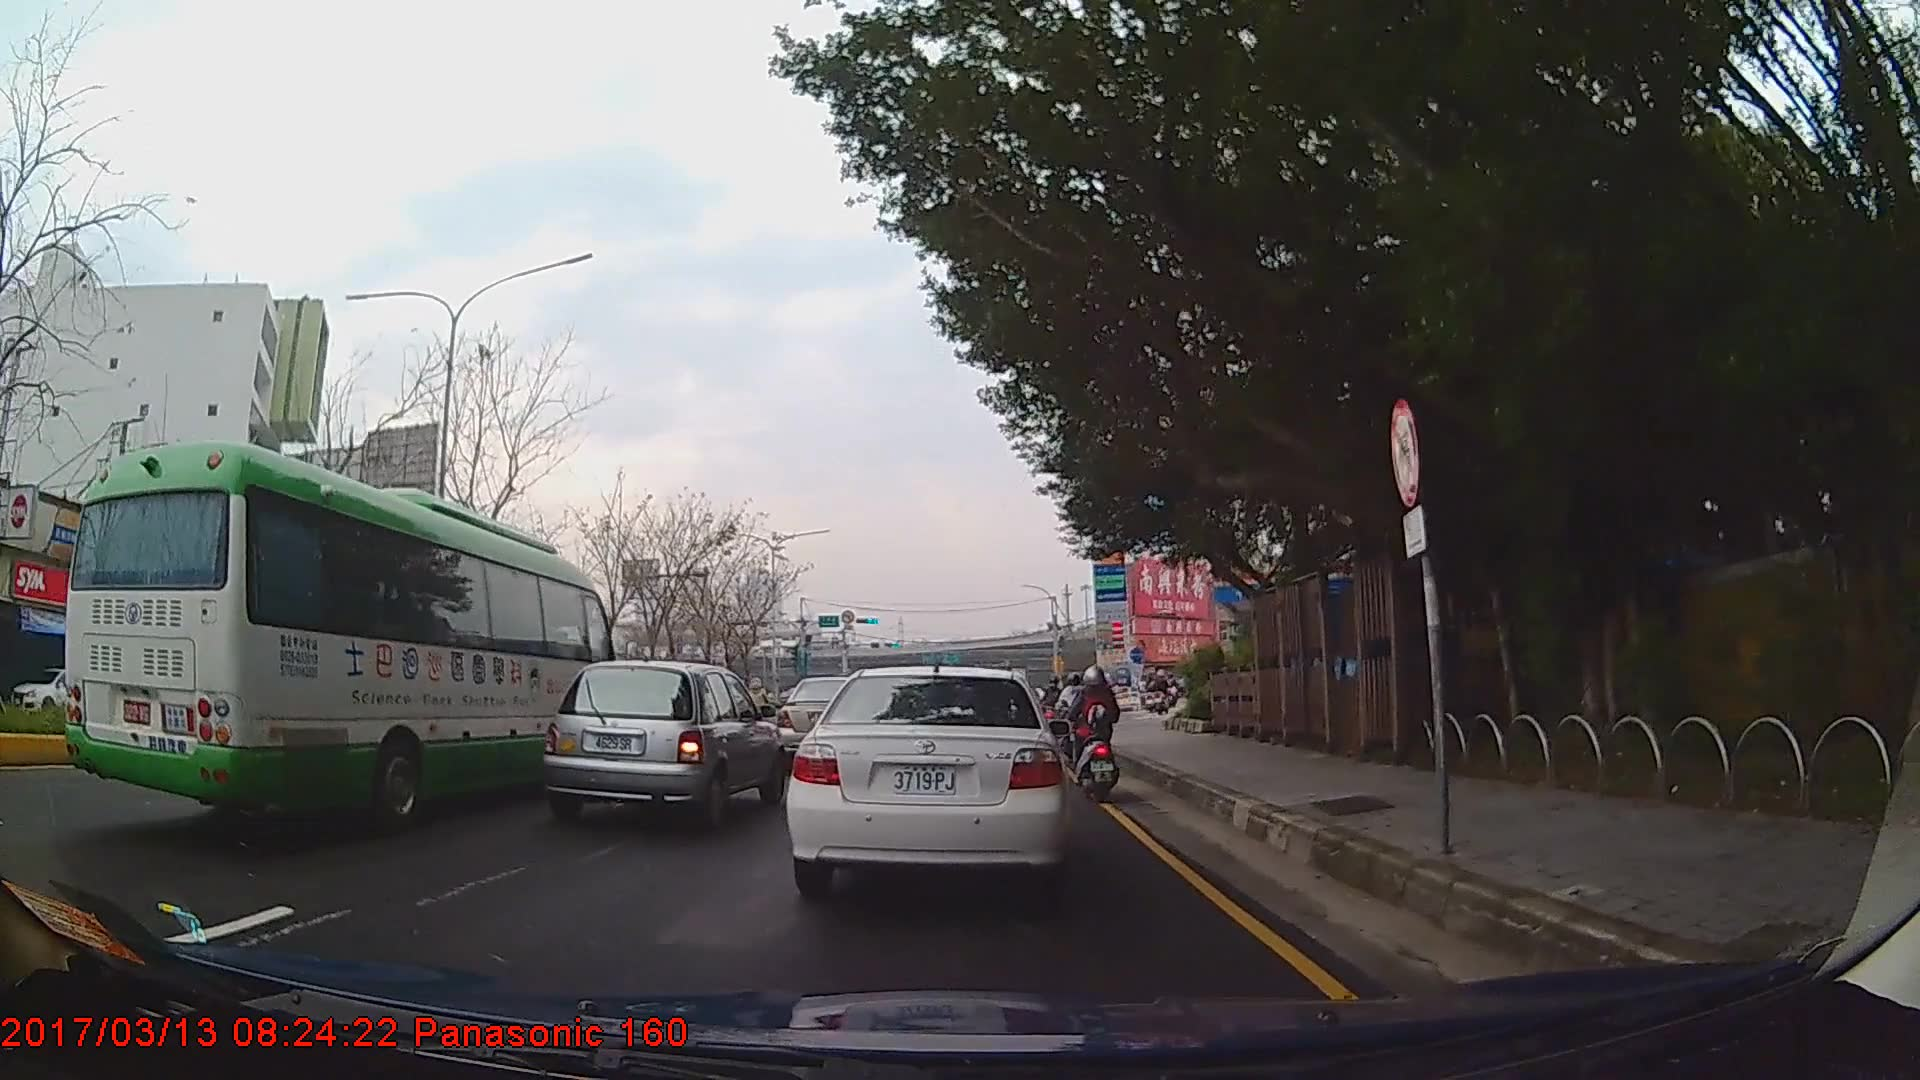rider: (1071, 664, 1120, 805), (1058, 672, 1091, 765), (1152, 670, 1172, 718)
vehicle: (63, 441, 617, 832), (783, 663, 1070, 896), (543, 655, 785, 832), (776, 674, 873, 765)
